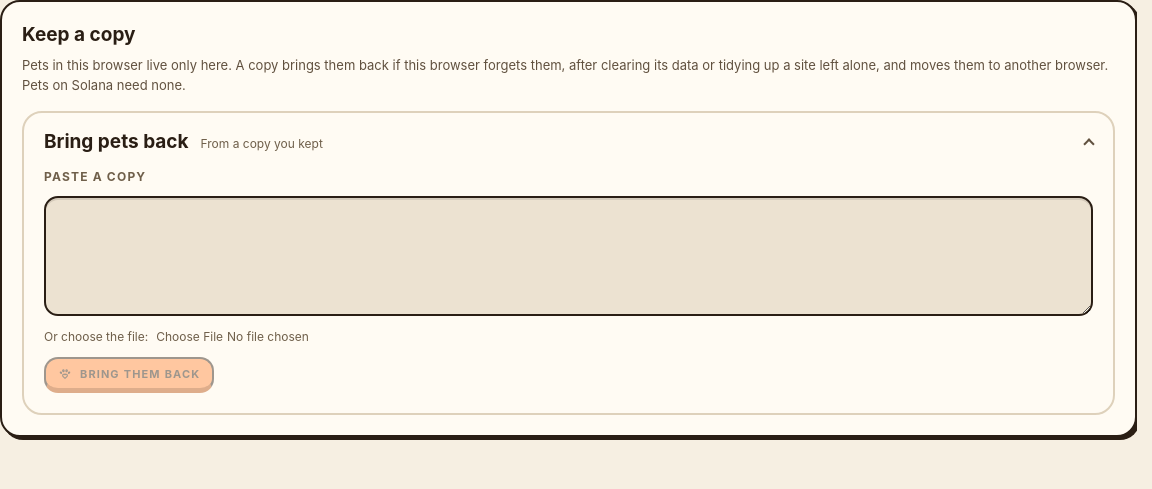
Test case: says plainly when a paste is not a copy, and changes nothing
Type "hello" into the text box labelled "Paste a copy".
click(568, 256); type("hello")  # box [44,196,1093,316]
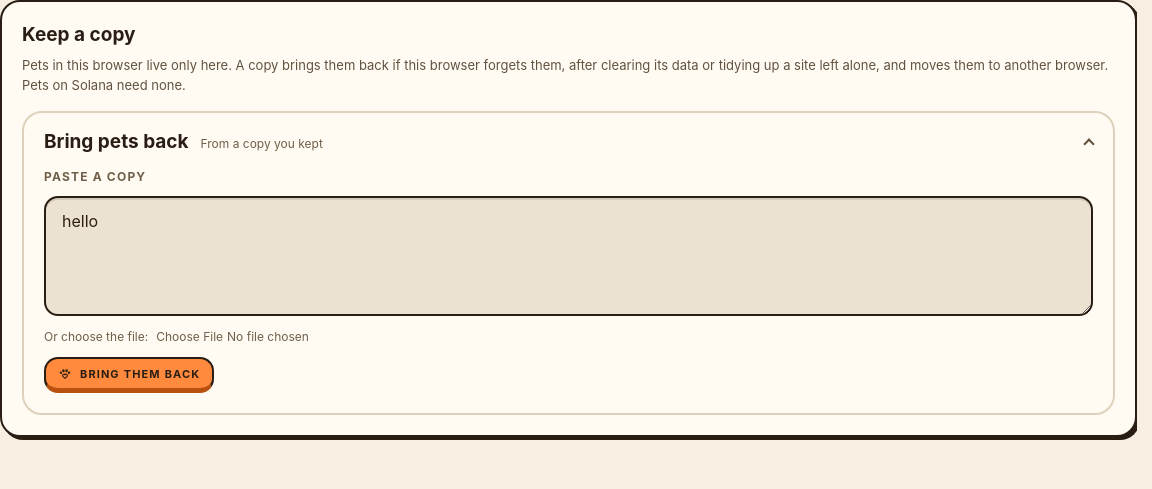
Click the button "Bring them back".
click(129, 375)  # box [44,357,214,393]
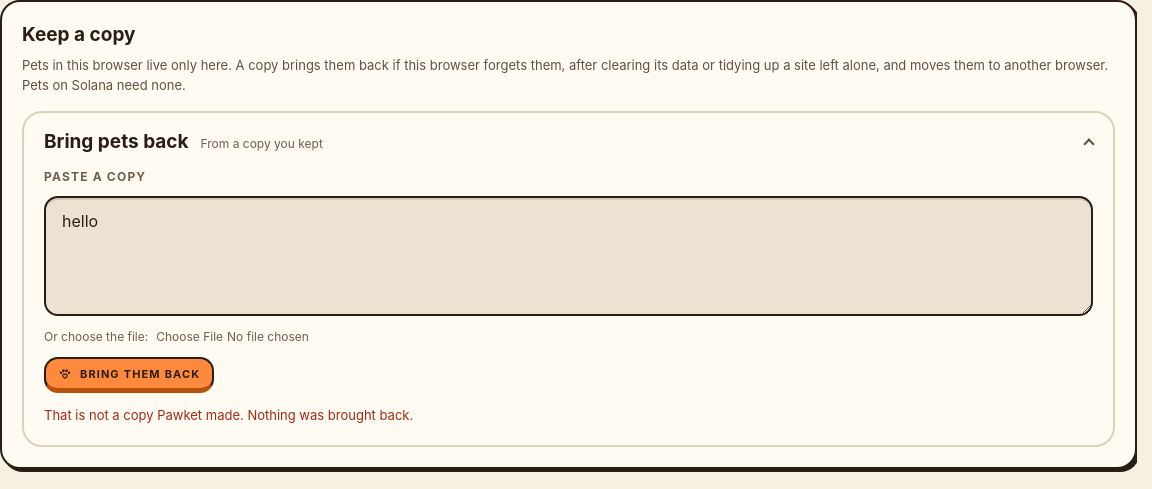
Now the message shows "not a copy Pawket made", box [44,407,413,423]
